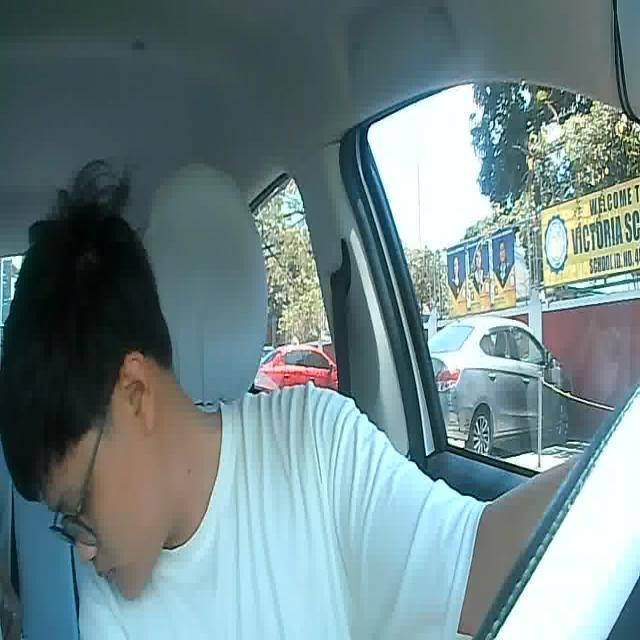Eye-Close: (66, 495, 93, 520)
Inattentive: (0, 197, 166, 603)
Normal: (95, 564, 122, 582)
